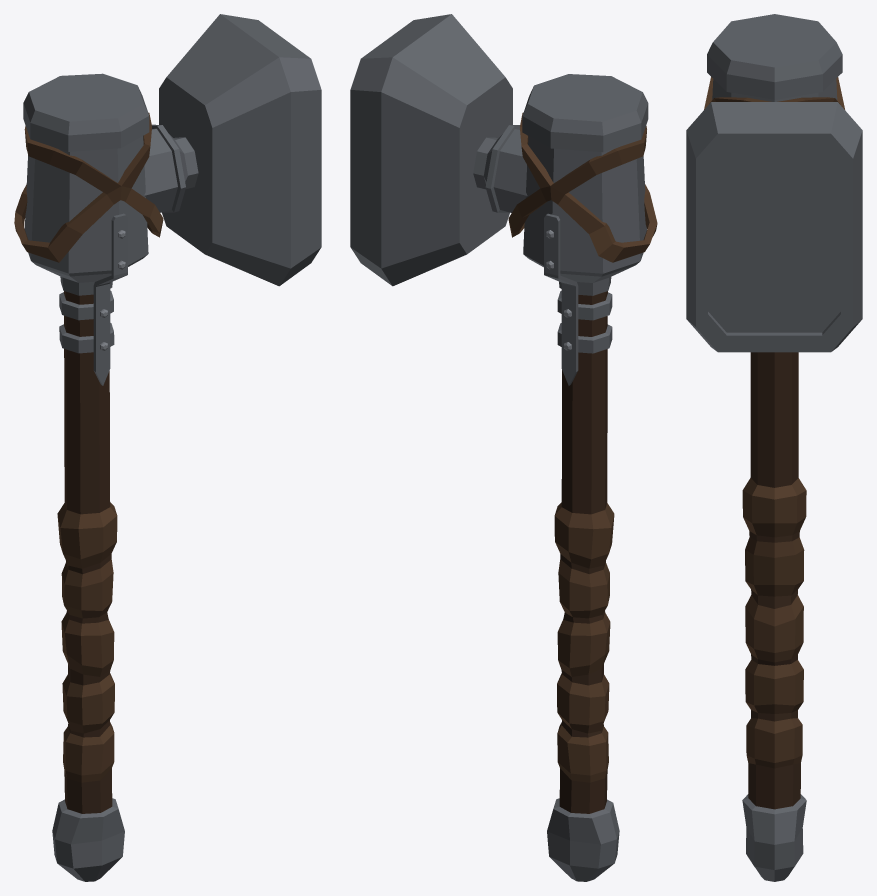
File: club.glb
3 views of the same model, side by side, from view 1: azimuth 30°, elevation 25°; view 2: azimuth 150°, elevation 25°; view 3: azimuth 270°, elevation 25° (orthographic). The views are drawn at different scales.
Visible parts, largest first — view 1: Hammer_small; view 2: Hammer_small; view 3: Hammer_small.
Boxes of the visible parts, bbox=[...] form: Hammer_small: bbox=[14, 14, 321, 881]; Hammer_small: bbox=[350, 14, 657, 881]; Hammer_small: bbox=[686, 14, 862, 881].
Size of the model in its own units: 0.2575 by 0.75 by 0.1396.
